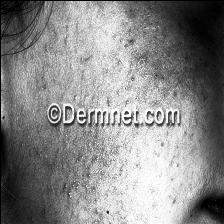Non-Cancerous Skin Condition: (62, 149, 130, 224)
